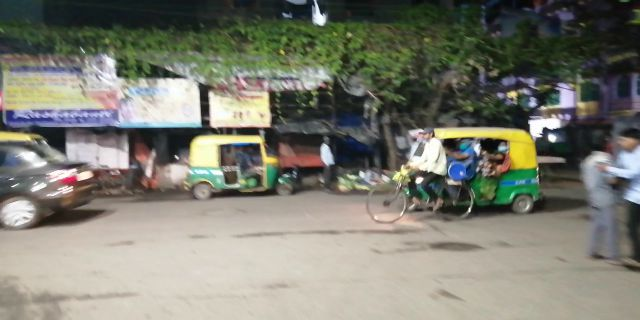Autorickshaw: (407, 124, 542, 219), (183, 130, 293, 200)
Car: (1, 138, 94, 233)
Cycle: (366, 127, 481, 224)
